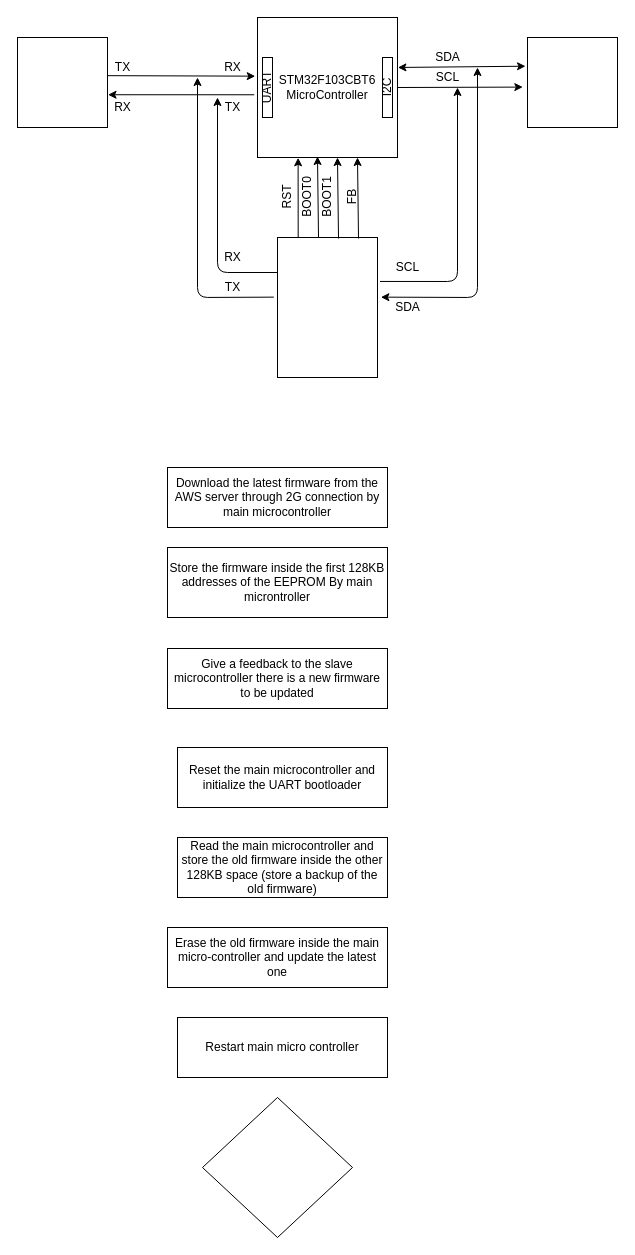
This 635x1255 diagram has some shape labels left out. Here are the shapes that lost their labels. From the top down, the centre of each, then its label:
the point at 62,82: Sim800 Module
the point at 572,82: EEPROM 2Mbits
the point at 327,307: STM32F030F4P6 MicroController
the point at 277,1167: check whether expected feedback pattern generated by the
